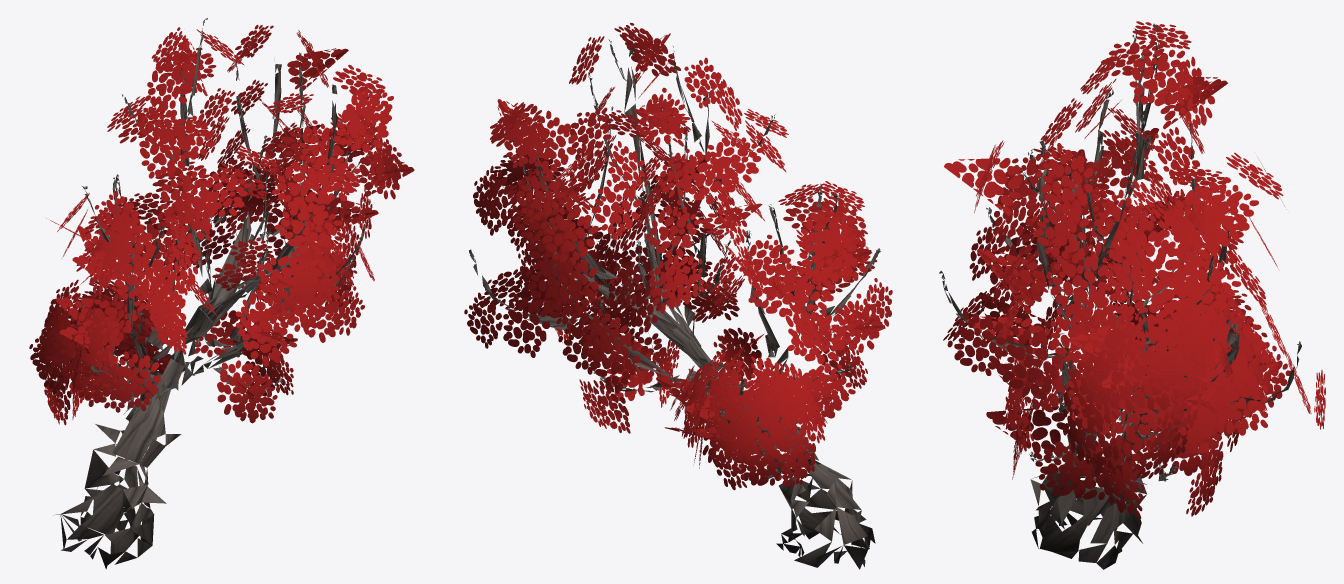
Rendered from TwistedTree_1_lod1.glb.
3 renders of one model, left to right at view 1: azimuth 30°, elevation 25°; view 2: azimuth 150°, elevation 25°; view 3: azimuth 270°, elevation 25°, orthographic. The views are drawn at different scales.
Parts seen in each view (by area): view 1: TwistedTree_1; view 2: TwistedTree_1; view 3: TwistedTree_1.
Part boxes in pixels (x1,y1,x2,y2): TwistedTree_1: (29,18,414,569); TwistedTree_1: (464,23,892,569); TwistedTree_1: (939,21,1325,569).
Bounding box in the file's own units: 12.93 × 15.71 × 9.43.
Materials: 2 (2 with a texture image).
